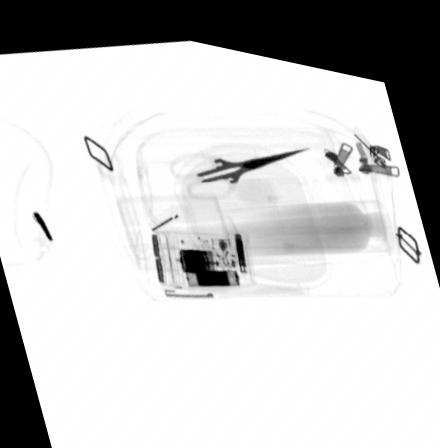Scissors: (169, 132, 310, 194)
